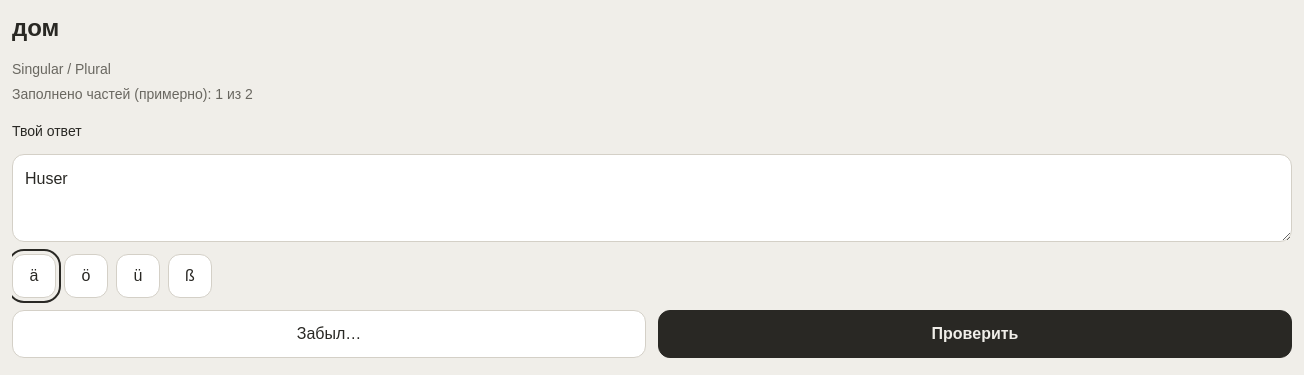
Test: one written answer field › keyboard activation of a symbol returns focus to the saved text selection
What coordinates should you click on to do the following:
click the button "ä"
I would click on:
 (34, 276)
Its box is [12,254,56,298].
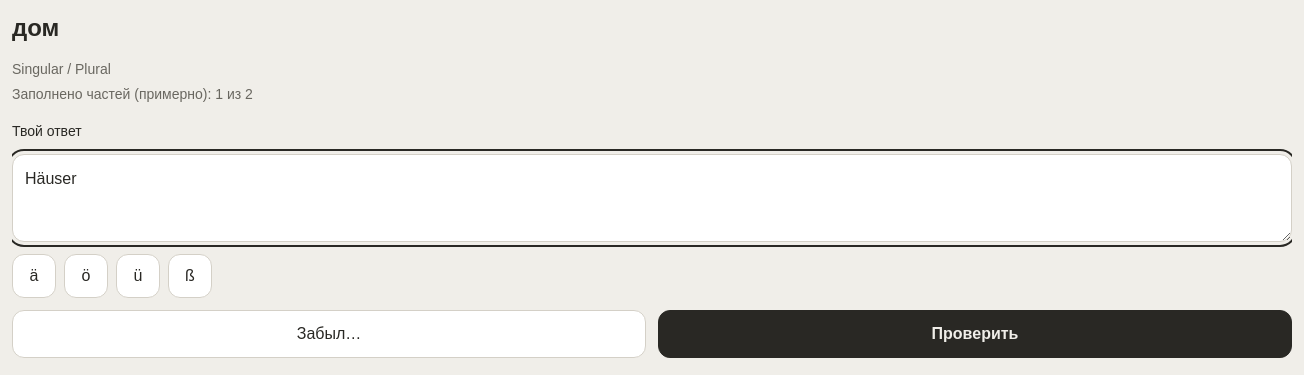
Expected: the text box holds "Häuser", [12,154,1292,242]
